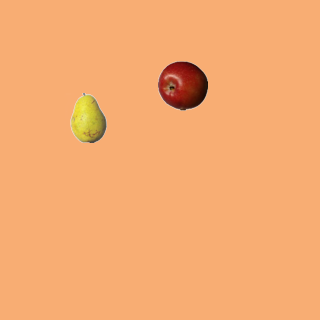Apple Braeburn: (157, 60, 207, 110)
Pear Monster: (63, 92, 113, 142)
